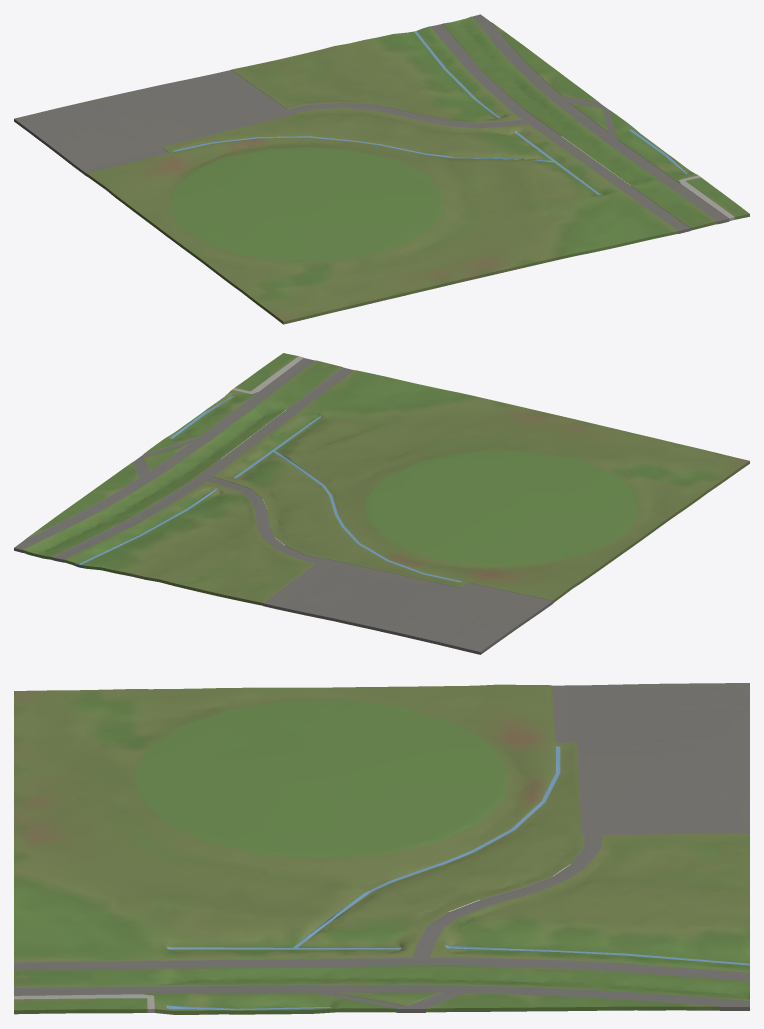
3 views of the same model, one above another, from view 1: azimuth 30°, elevation 25°; view 2: azimuth 150°, elevation 25°; view 3: azimuth 270°, elevation 25° (orthographic). The views are drawn at different scales.
Parts seen in each view (by area): view 1: T-0-3.L1:utd:matte, T-0-3.L1:utd:water; view 2: T-0-3.L1:utd:matte, T-0-3.L1:utd:water; view 3: T-0-3.L1:utd:matte, T-0-3.L1:utd:water.
Boxes of the visible parts, left/top/right/bottom form: T-0-3.L1:utd:matte: left=14, top=14, right=749, bottom=324; T-0-3.L1:utd:water: left=173, top=31, right=687, bottom=194; T-0-3.L1:utd:matte: left=14, top=353, right=749, bottom=654; T-0-3.L1:utd:water: left=78, top=395, right=461, bottom=582; T-0-3.L1:utd:matte: left=14, top=683, right=749, bottom=1014; T-0-3.L1:utd:water: left=166, top=746, right=749, bottom=1010.
Size of the model in its own units: 256 by 8.03 by 256.
